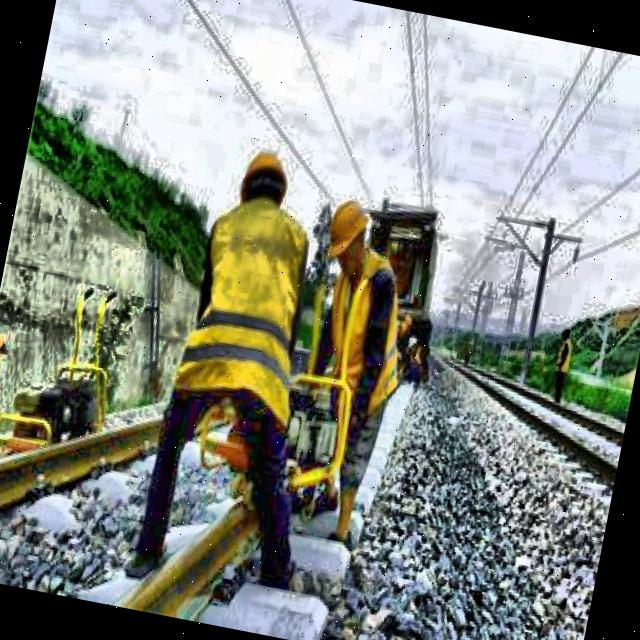helmet: (234, 140, 298, 226), (316, 190, 378, 274)
